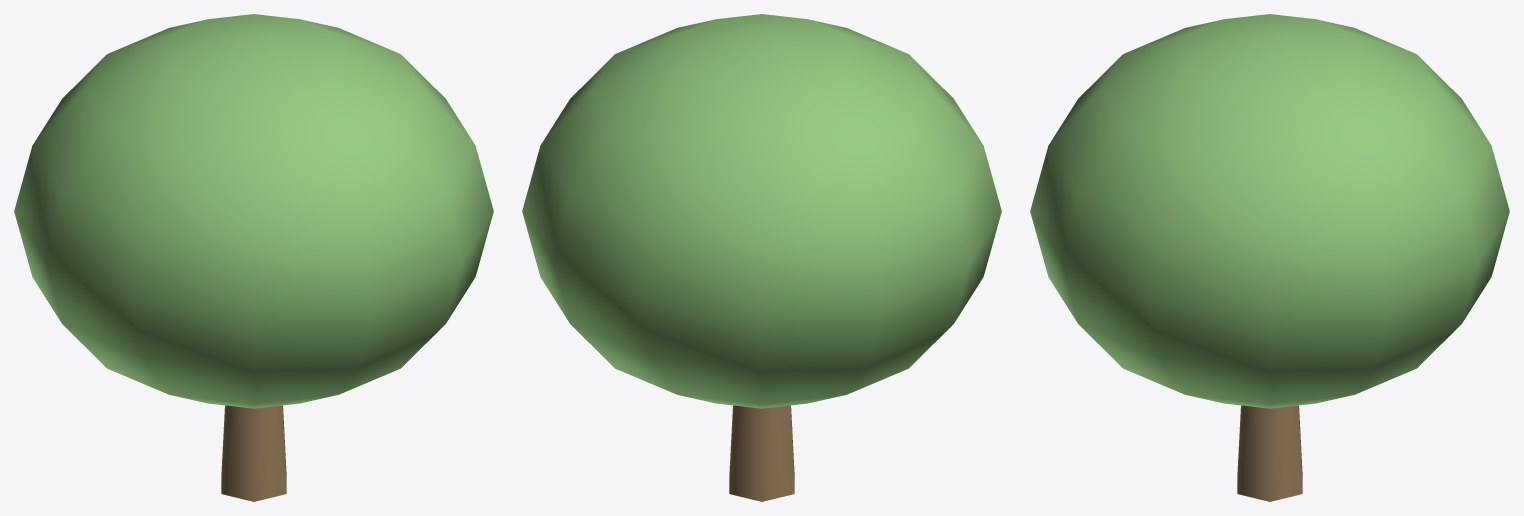
File: tree-weeping.glb
3 renders of one model, left to right at view 1: azimuth 30°, elevation 25°; view 2: azimuth 150°, elevation 25°; view 3: azimuth 270°, elevation 25°, orthographic.
Size of the model in its own units: 0.76 by 0.78 by 0.76.
